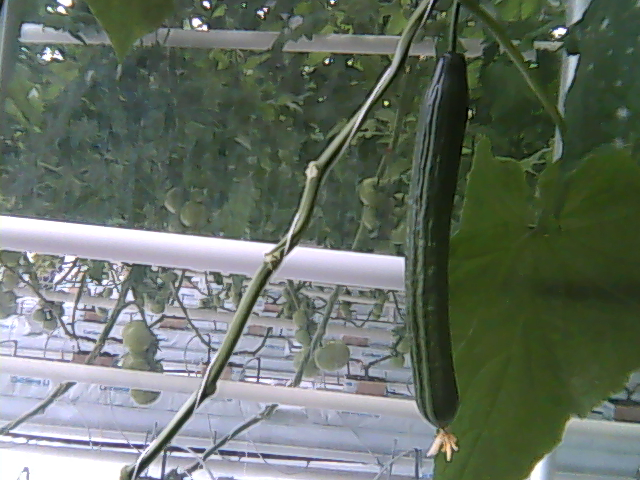concombre: (401, 41, 474, 465)
